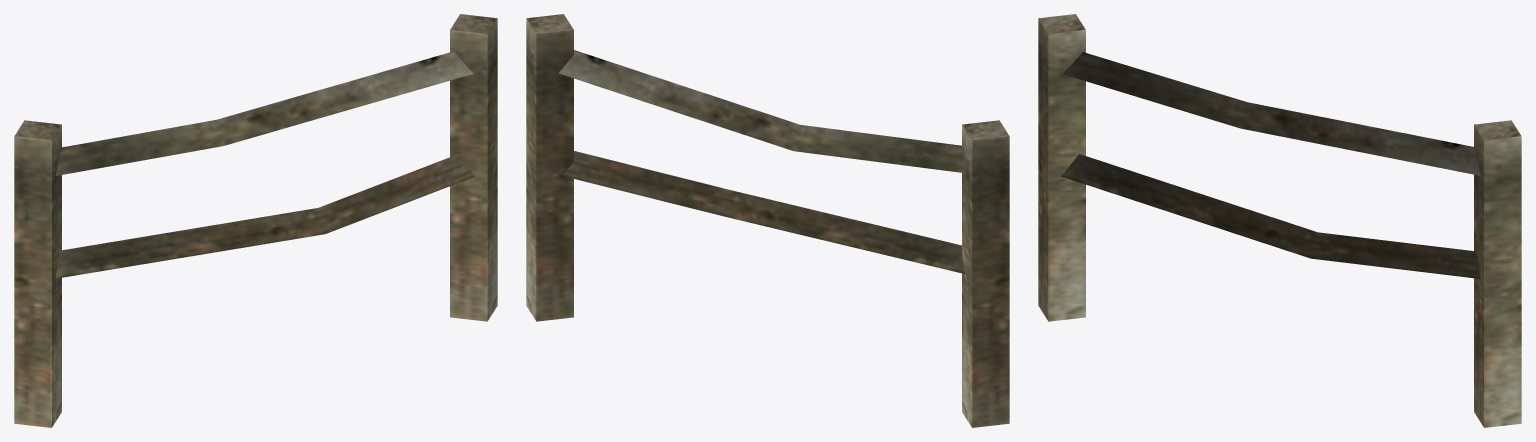
The model's file is Fence01.obj.
3 renders of one model, left to right at view 1: azimuth 30°, elevation 25°; view 2: azimuth 150°, elevation 25°; view 3: azimuth 330°, elevation 25°, orthographic.
Parts seen in each view (by area): view 1: Mesh_0; view 2: Mesh_0; view 3: Mesh_0.
Boxes of the visible parts, x1=… form: Mesh_0: x1=14, y1=14, x2=497, y2=427; Mesh_0: x1=526, y1=14, x2=1009, y2=427; Mesh_0: x1=1038, y1=14, x2=1521, y2=427.
Size of the model in its own units: 1.78 by 1.01 by 0.2101.
1 material, 1 textured.
